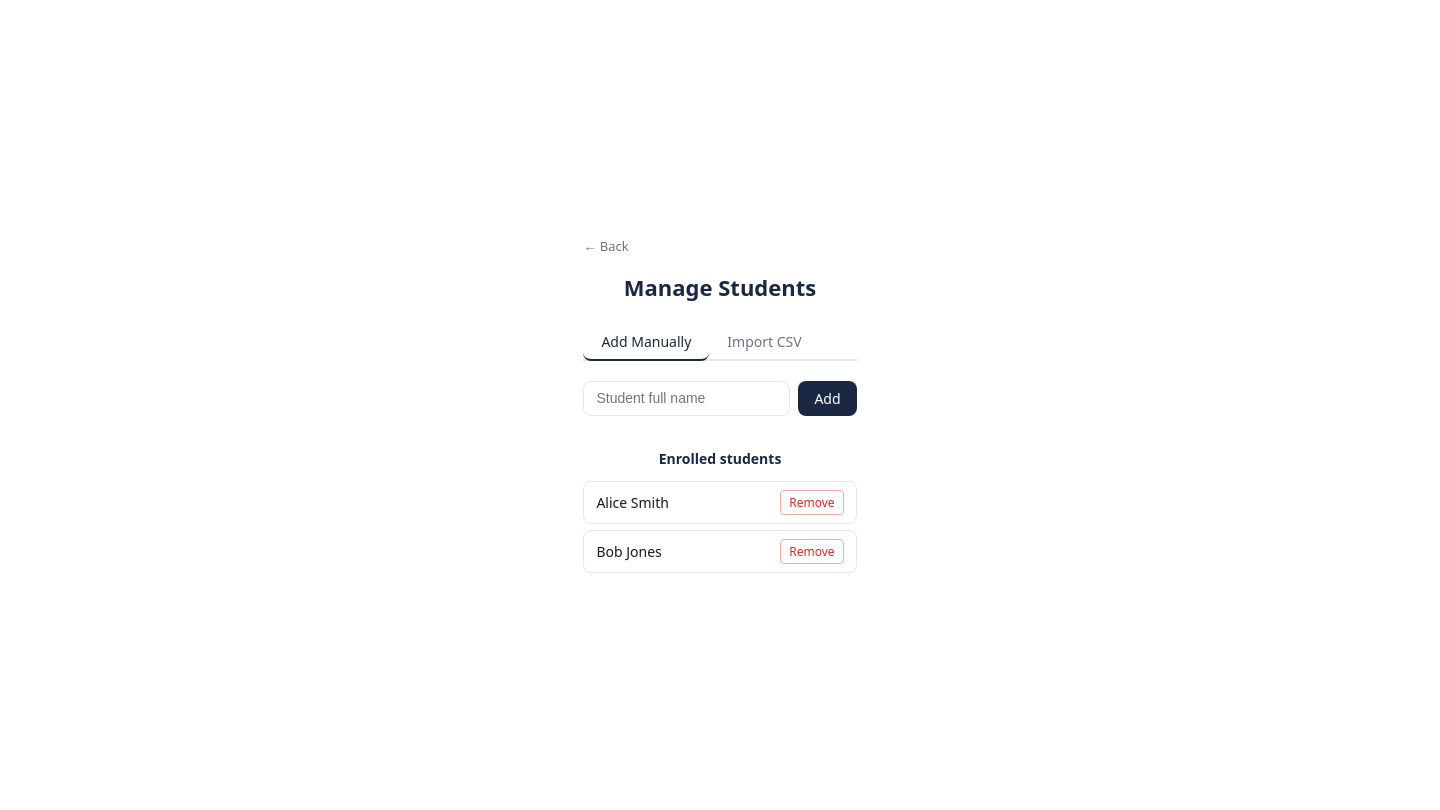
CourseStudentsView › shows error in modal when student removal fails
The width and height of the screenshot is (1440, 810).
What coordinates should you click on to do the following:
click the button with test id "remove-student-10"
I would click on:
 (812, 502)
Its box is x1=780 y1=490 x2=844 y2=515.
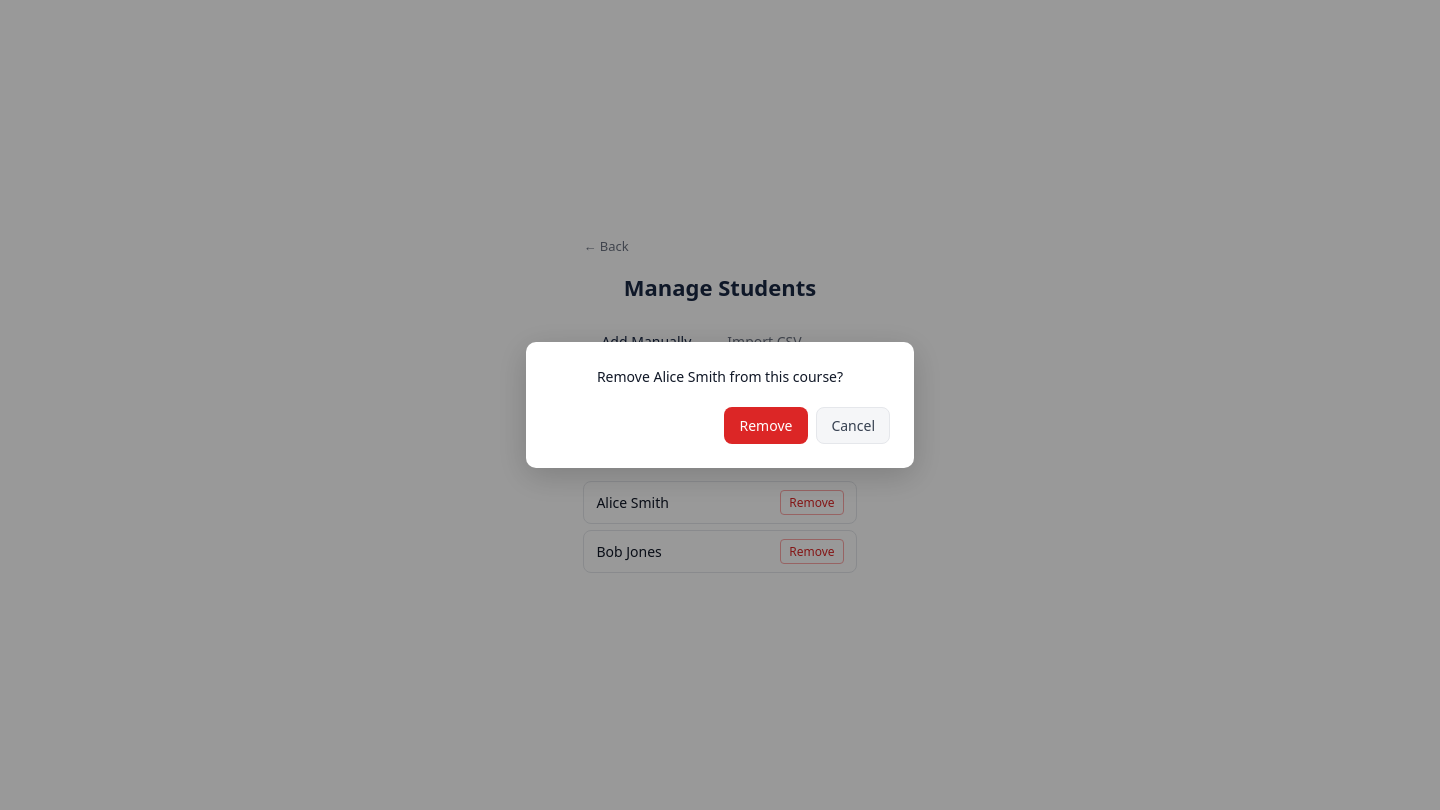
What coordinates should you click on to do the following:
click the button with test id "confirm-remove-btn"
I would click on:
 (766, 426)
Its box is x1=724 y1=407 x2=808 y2=444.
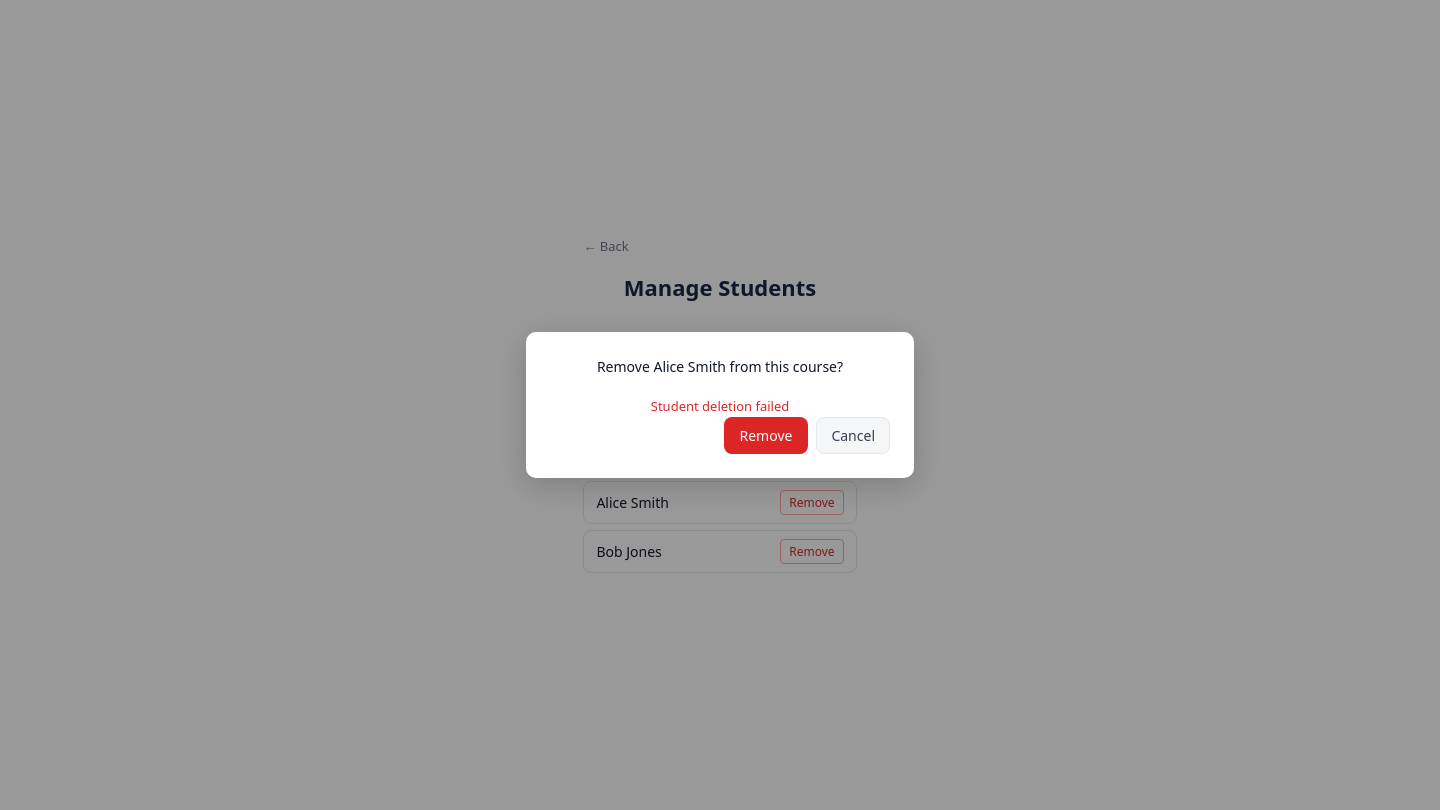
Now the element with test id "remove-modal" is shown
Now the text with test id "remove-error" reads "Student deletion failed", box x1=651 y1=397 x2=789 y2=415
